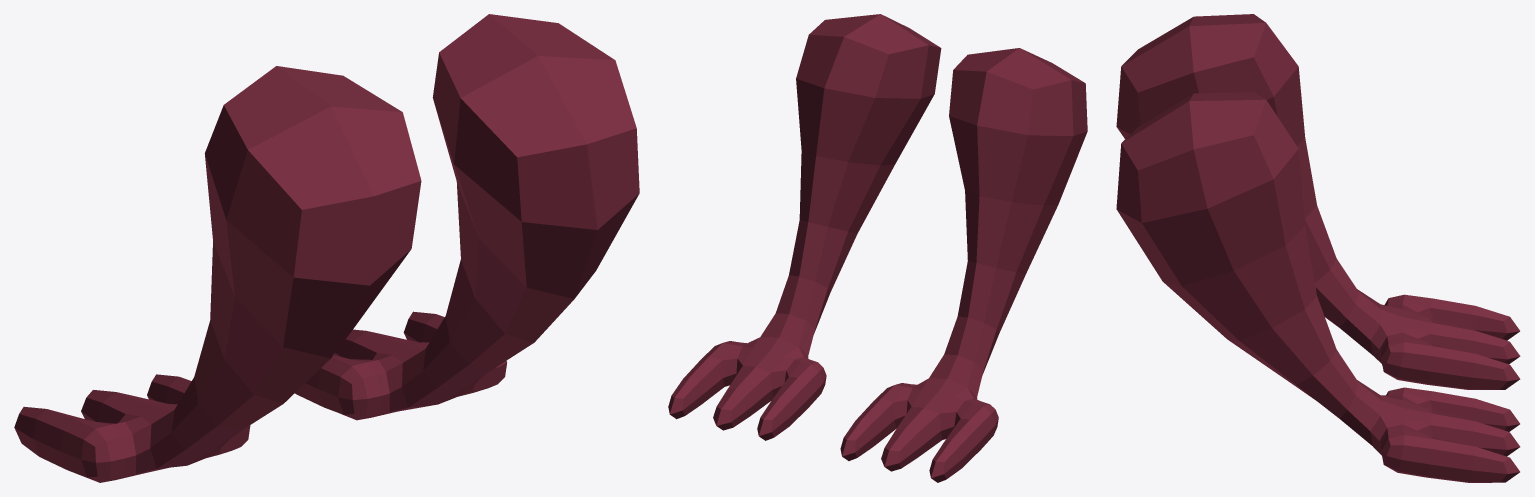
The model's file is SM_Pigeon_Legs.fbx.
The picture shows the model from 3 angles, left to right: view 1: azimuth 30°, elevation 25°; view 2: azimuth 150°, elevation 25°; view 3: azimuth 270°, elevation 25°; orthographic projection. The views are drawn at different scales.
Visible parts, largest first — view 1: SM_Pigeon_Legs; view 2: SM_Pigeon_Legs; view 3: SM_Pigeon_Legs.
Boxes of the visible parts, x1,y1,x2,y2 form: SM_Pigeon_Legs: (14,14,639,482); SM_Pigeon_Legs: (668,14,1087,482); SM_Pigeon_Legs: (1116,14,1520,482).
Bounding box in the file's own units: 71.28 × 76.46 × 79.69.
